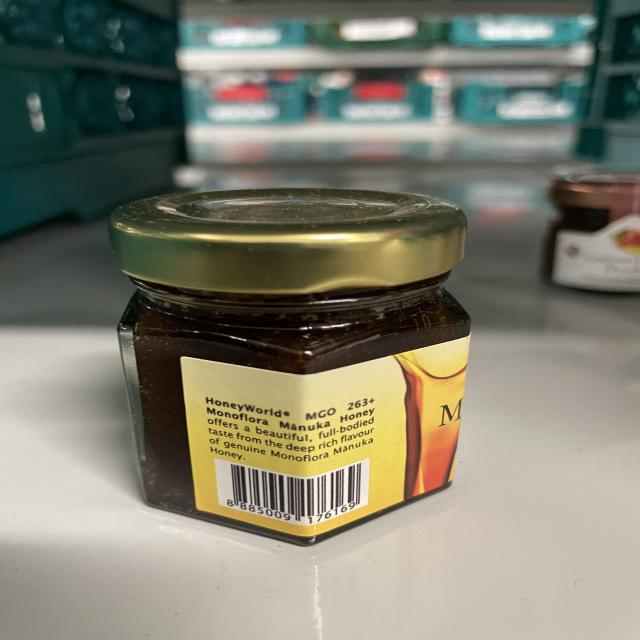object_name: (114, 197, 466, 542)
